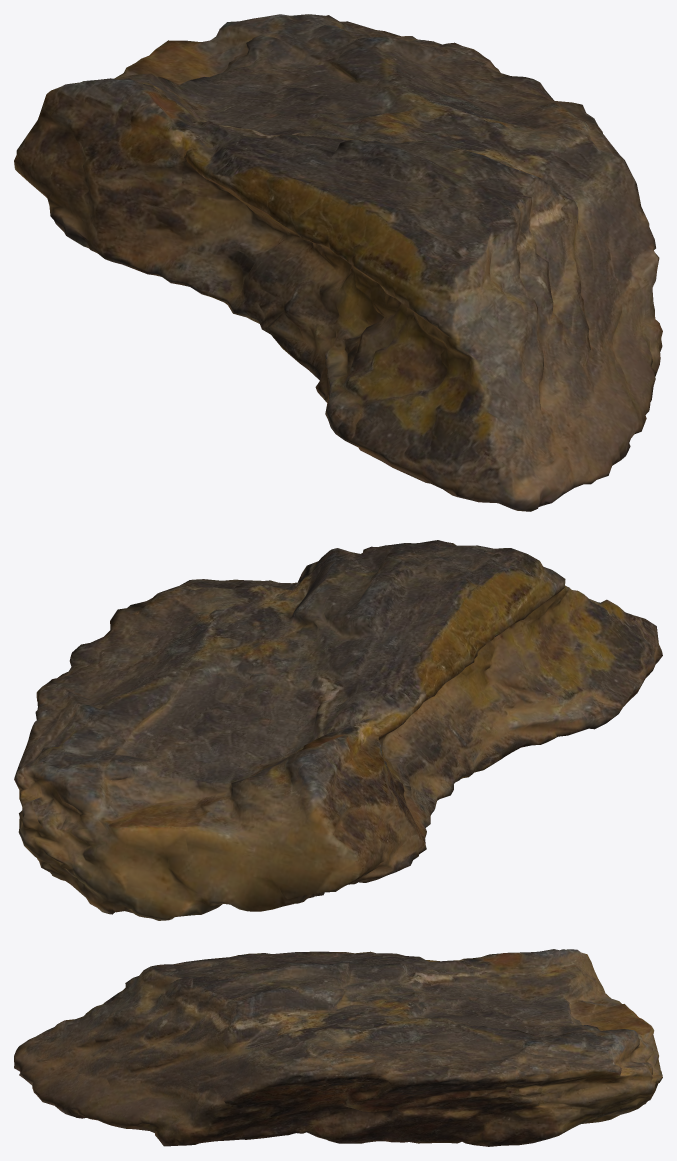
File: rock.glb
3 views of the same model, one above another, from view 1: azimuth 30°, elevation 25°; view 2: azimuth 150°, elevation 25°; view 3: azimuth 270°, elevation 25° (orthographic). The views are drawn at different scales.
Parts seen in each view (by area): view 1: rock_09_LOD0; view 2: rock_09_LOD0; view 3: rock_09_LOD0.
Part boxes in pixels (x1=…): rock_09_LOD0: x1=14, y1=14, x2=662, y2=511; rock_09_LOD0: x1=14, y1=540, x2=662, y2=920; rock_09_LOD0: x1=14, y1=949, x2=662, y2=1146.
Bounding box in the file's own units: 0.074 × 0.0329 × 0.1446.
Materials: 1 (1 with a texture image).
